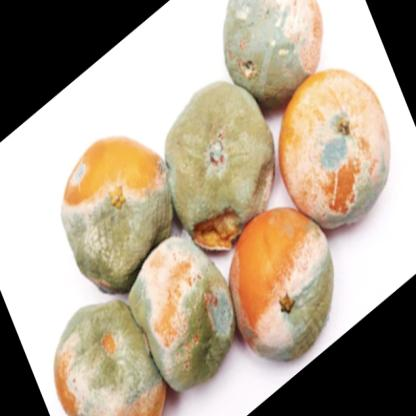rotten: (55, 1, 391, 416)
